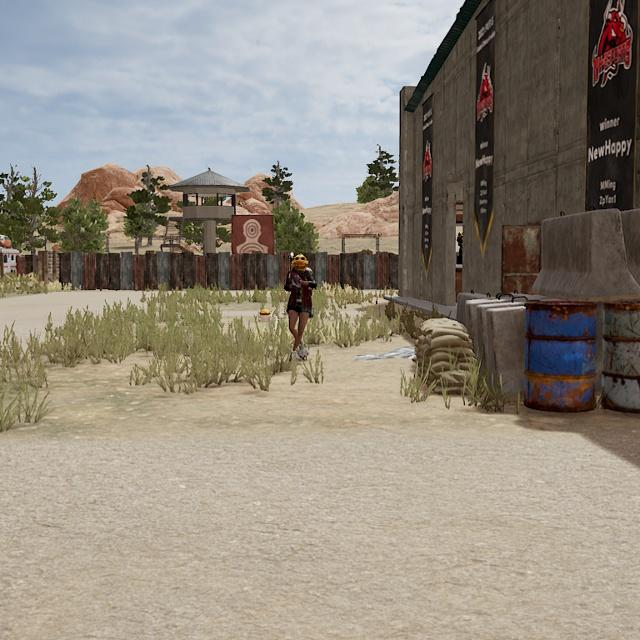head: (290, 253, 310, 273)
people: (282, 253, 319, 362)
